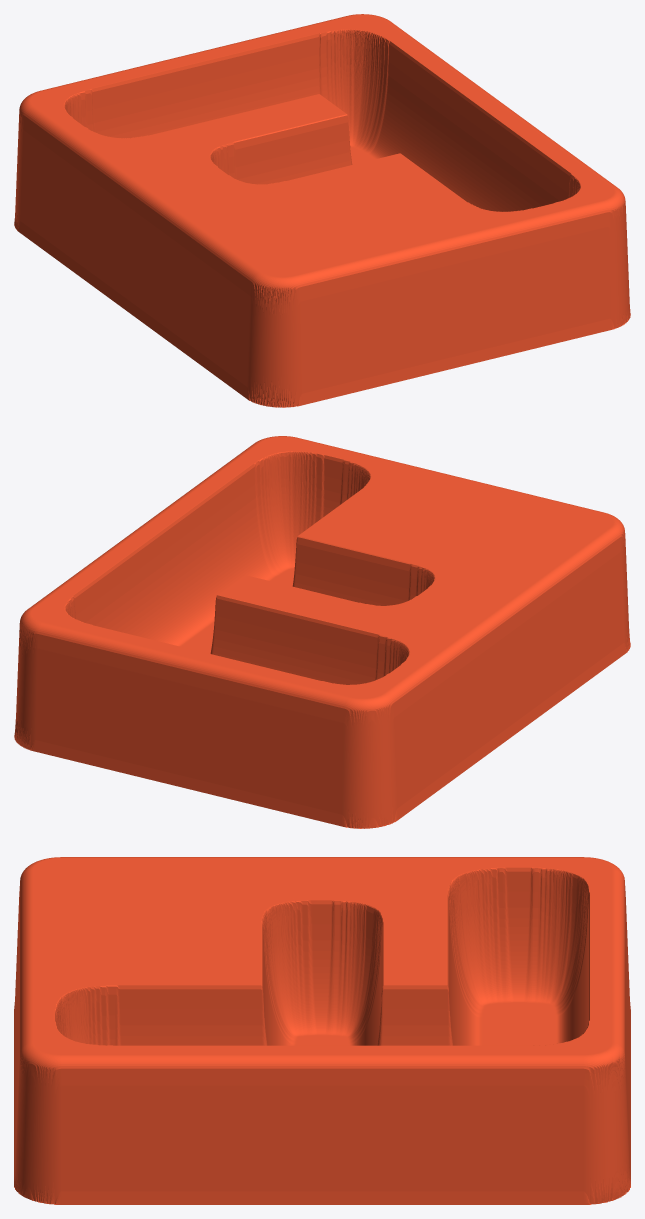
File: mold.glb
3 renders of one model, top to bottom at view 1: azimuth 30°, elevation 25°; view 2: azimuth 150°, elevation 25°; view 3: azimuth 270°, elevation 25°, orthographic. The views are drawn at different scales.
Parts seen in each view (by area): view 1: geometry_0; view 2: geometry_0; view 3: geometry_0.
Part boxes in pixels (x1,y1,x2,y2): geometry_0: (14,14,630,407); geometry_0: (14,436,630,828); geometry_0: (14,857,630,1204).
Bounding box in the file's own units: 0.096 × 0.0299 × 0.1178.
